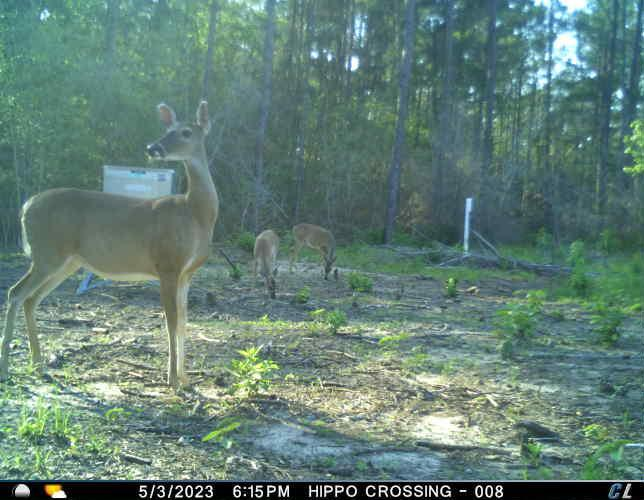Deer: (0, 96, 223, 396), (286, 221, 339, 282), (251, 228, 284, 298)
